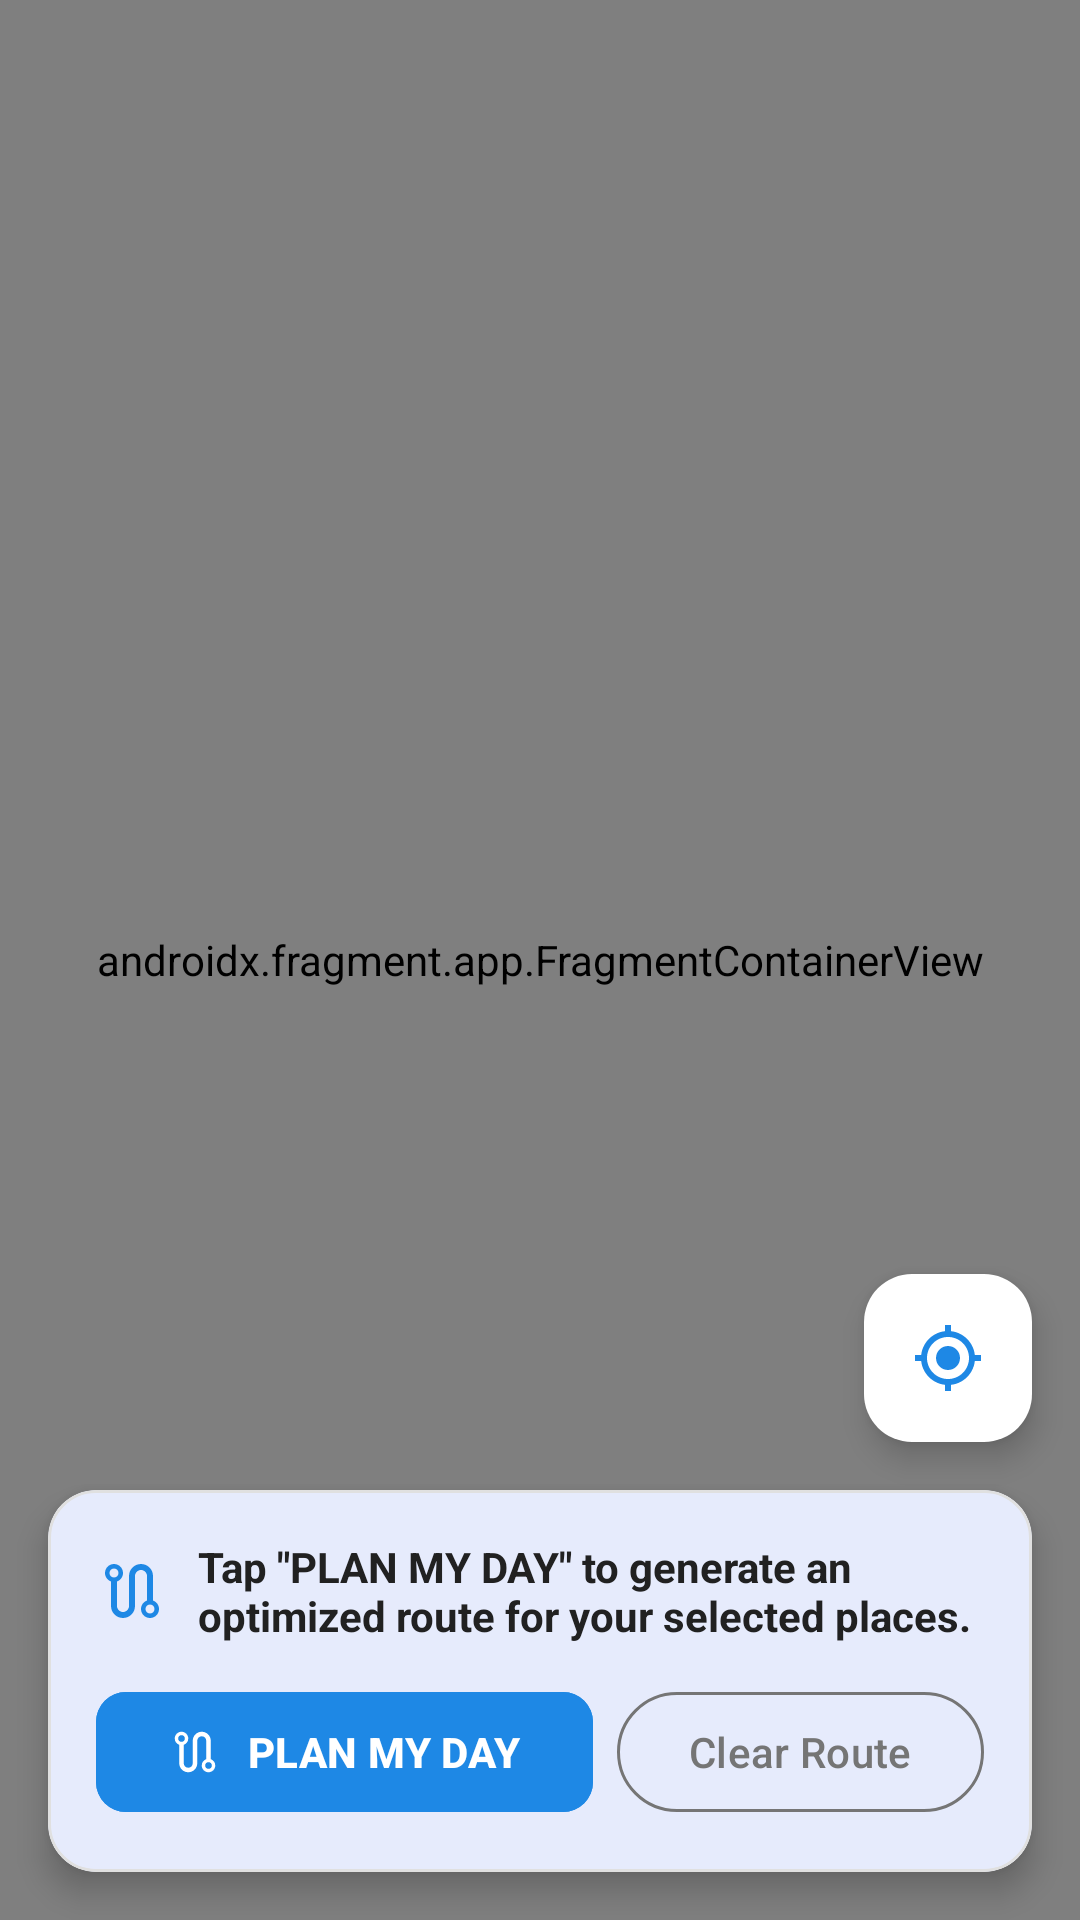

Screen size 1080x1920. Icon name, then its box in pixels as (x1, y1, x2, y2):
My Location: (864, 1274, 1032, 1442)
